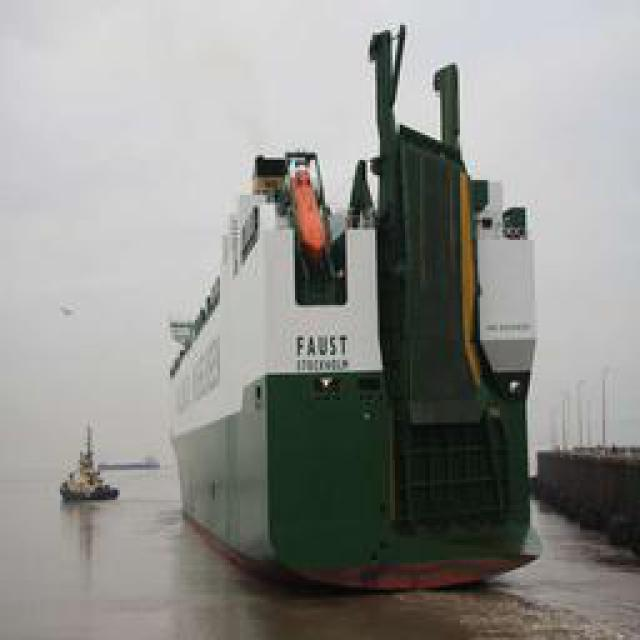Ship: (155, 46, 553, 598), (60, 424, 123, 504)
